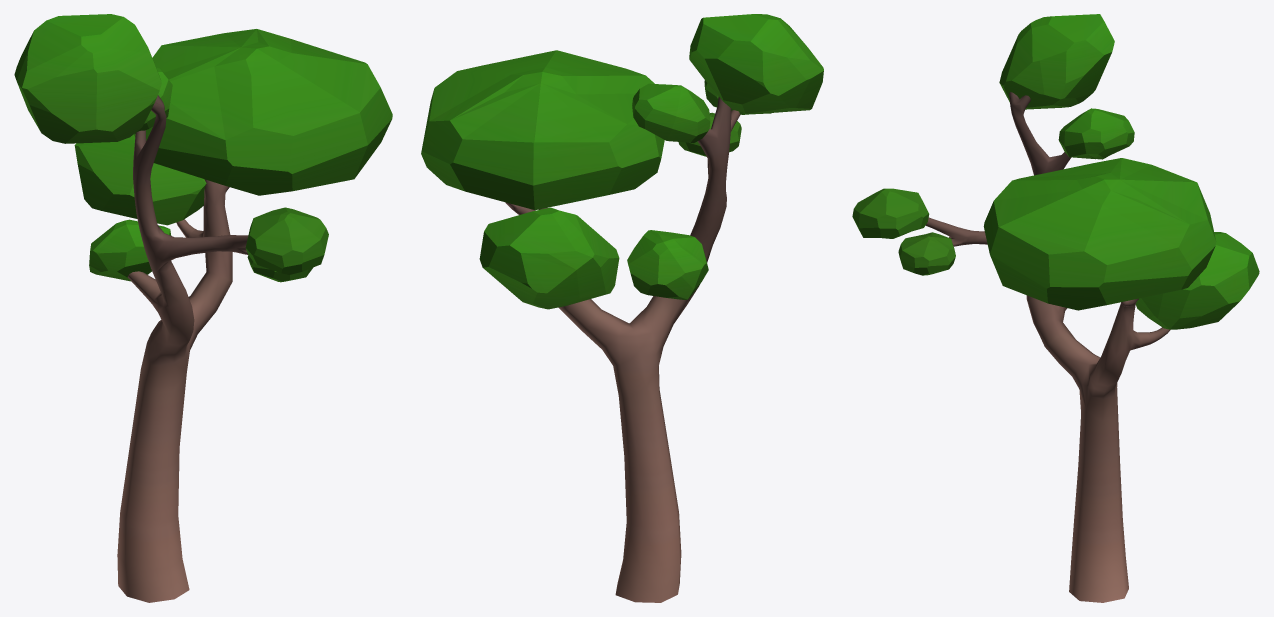
The model's file is SM_Exterior_Arbol_01.fbx.
3 renders of one model, left to right at view 1: azimuth 30°, elevation 25°; view 2: azimuth 150°, elevation 25°; view 3: azimuth 270°, elevation 25°, orthographic. The views are drawn at different scales.
Parts seen in each view (by area): view 1: SM_Exterior_Arbol1; view 2: SM_Exterior_Arbol1; view 3: SM_Exterior_Arbol1.
Part boxes in pixels (bbox=[...]): SM_Exterior_Arbol1: bbox=[14, 14, 392, 602]; SM_Exterior_Arbol1: bbox=[421, 14, 823, 602]; SM_Exterior_Arbol1: bbox=[852, 14, 1259, 602].
Bounding box in the file's own units: 586 × 877 × 609.
